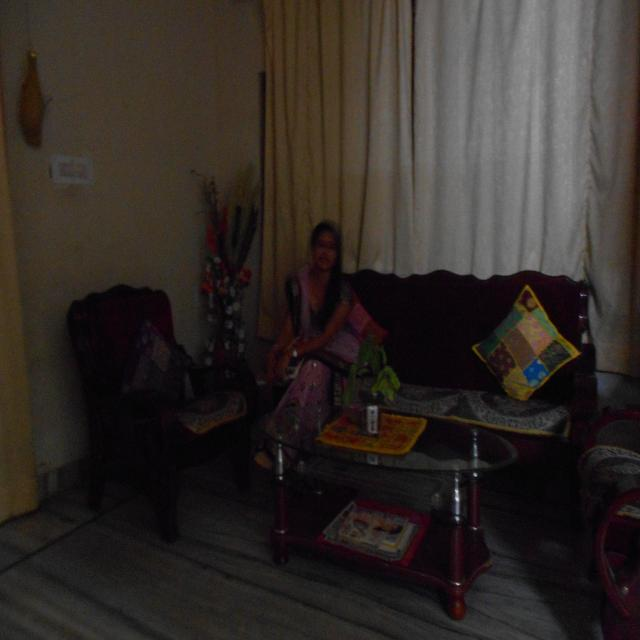People: (240, 190, 384, 493)
Table: (249, 398, 516, 626)
chair: (255, 247, 615, 447), (52, 253, 241, 513)
